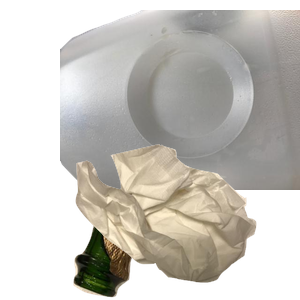glass: (71, 152, 260, 300)
metal: (60, 58, 300, 238)
plastic: (60, 10, 300, 190)
trash: (73, 142, 300, 300)
